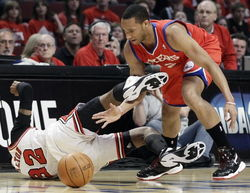10+: (2, 2, 246, 176)
down: (6, 71, 209, 183)
